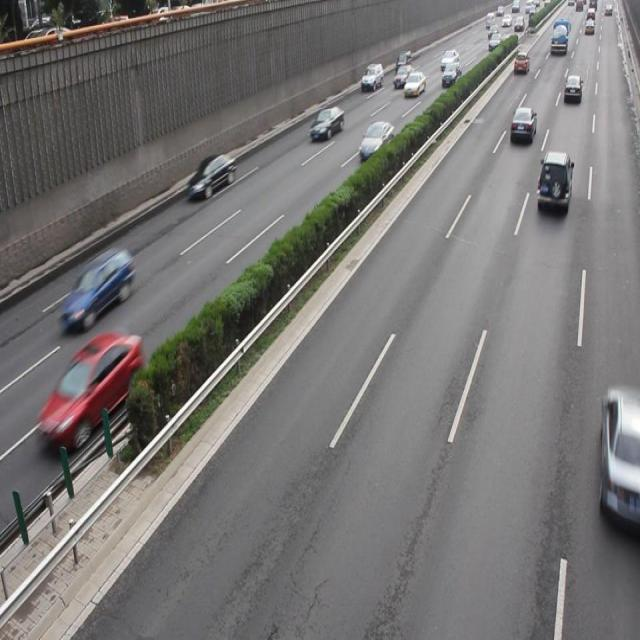car: (35, 330, 144, 452), (57, 245, 135, 331), (597, 383, 640, 530), (185, 151, 234, 200), (534, 149, 572, 212), (358, 119, 392, 160), (310, 105, 344, 142), (509, 105, 536, 146)
